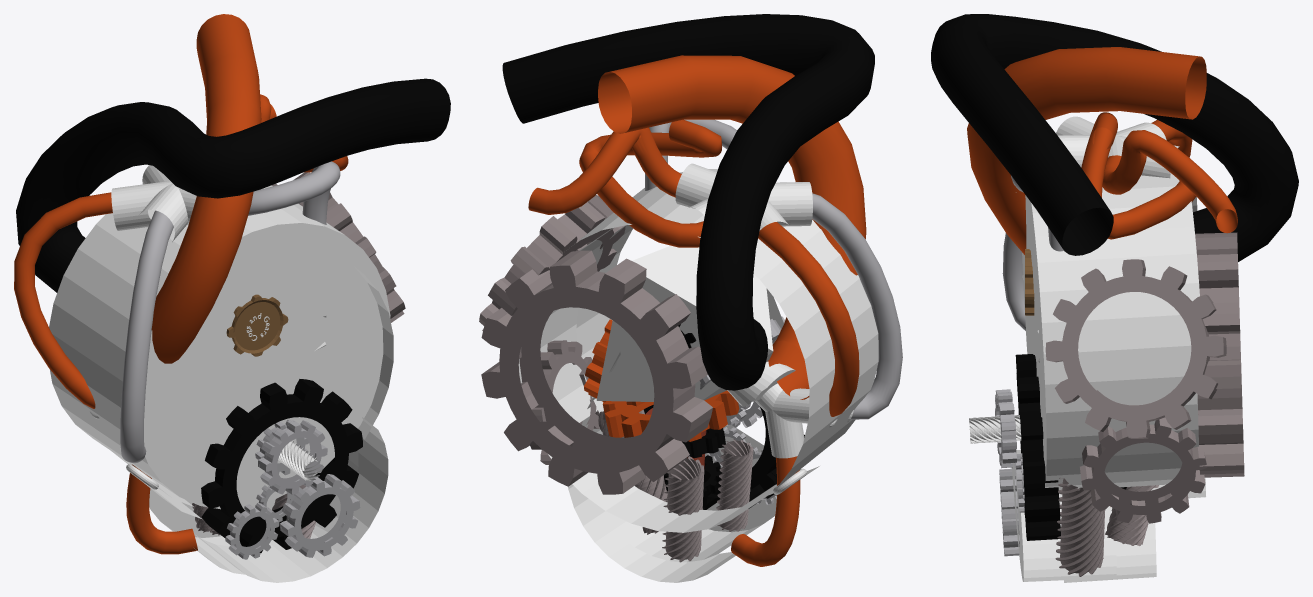
File: allStages.glb
3 views of the same model, side by side, from view 1: azimuth 30°, elevation 25°; view 2: azimuth 150°, elevation 25°; view 3: azimuth 270°, elevation 25° (orthographic). The views are drawn at different scales.
Visible parts, largest first — view 1: Cylinder.073, BézierCurve.038, BézierCurve.032, Gear.045, BézierCurve.053, Cylinder.114, BézierCurve.055, N Joint.007, Gear.117, Cylinder.074, BézierCurve.016, Gear.118 (+5 smaller); view 2: BézierCurve.038, Gear.090, BézierCurve.032, Cylinder.073, Cylinder.074, BézierCurve.055, Cube.004, BézierCurve.053, BézierCurve.027, Gear.091, Cylinder.114, N Joint.007 (+12 smaller); view 3: BézierCurve.038, Cylinder.073, BézierCurve.032, Gear.091, Gear.090, Gear.103, BézierCurve.055, Gear.045, BézierCurve.027, Worm Gear.001, Cylinder.114, N Joint.007 (+7 smaller).
Boxes of the visible parts, left/top/right/bottom form: Cylinder.073: left=49, top=185, right=390, bottom=509; BézierCurve.038: left=16, top=78, right=450, bottom=292; BézierCurve.032: left=151, top=14, right=261, bottom=363; Gear.045: left=201, top=379, right=362, bottom=553; BézierCurve.053: left=120, top=161, right=340, bottom=463; Cylinder.114: left=132, top=266, right=393, bottom=582; BézierCurve.055: left=14, top=94, right=276, bottom=408; N Joint.007: left=111, top=165, right=196, bottom=241; Gear.117: left=280, top=474, right=360, bottom=557; Cylinder.074: left=110, top=450, right=358, bottom=574; BézierCurve.016: left=126, top=464, right=197, bottom=554; Gear.118: left=258, top=420, right=327, bottom=494; BézierCurve.038: left=502, top=14, right=874, bottom=390; Gear.090: left=481, top=250, right=712, bottom=494; BézierCurve.032: left=598, top=55, right=866, bottom=399; Cylinder.073: left=566, top=169, right=878, bottom=488; Cylinder.074: left=518, top=227, right=776, bottom=582; BézierCurve.055: left=528, top=127, right=859, bottom=416; Cube.004: left=596, top=245, right=783, bottom=401; BézierCurve.053: left=645, top=119, right=902, bottom=419; BézierCurve.027: left=579, top=119, right=721, bottom=247; Gear.091: left=479, top=195, right=625, bottom=330; Cylinder.114: left=576, top=225, right=819, bottom=562; N Joint.007: left=675, top=163, right=812, bottom=230; BézierCurve.038: left=931, top=14, right=1298, bottom=261; Cylinder.073: left=1022, top=173, right=1199, bottom=489; BézierCurve.032: left=967, top=47, right=1206, bottom=254; Gear.091: left=1045, top=259, right=1226, bottom=438; Gear.090: left=1195, top=232, right=1244, bottom=477; Gear.103: left=1080, top=417, right=1206, bottom=523; BézierCurve.055: left=1102, top=119, right=1237, bottom=233; Gear.045: left=1015, top=354, right=1060, bottom=540; BézierCurve.027: left=1081, top=112, right=1196, bottom=239; Worm Gear.001: left=1055, top=477, right=1105, bottom=576; Cylinder.114: left=1012, top=192, right=1116, bottom=581; N Joint.007: left=1056, top=116, right=1179, bottom=178.
Size of the model in its own units: 15.39 by 19.36 by 12.34.
